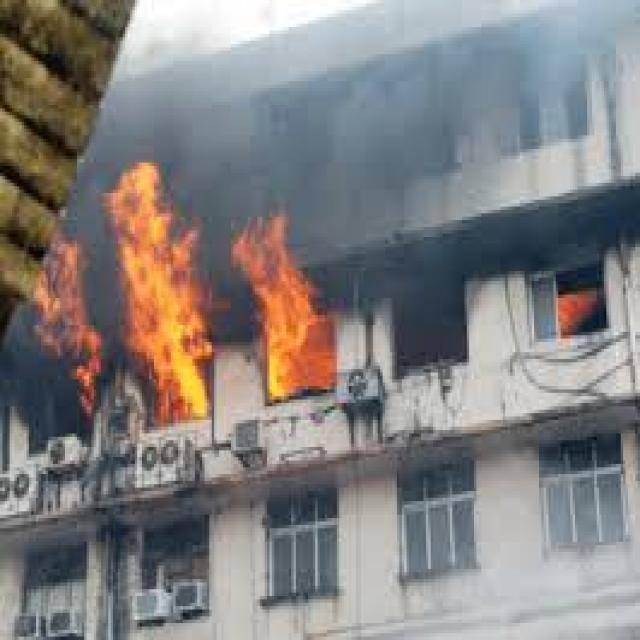fire: (99, 159, 214, 427), (226, 203, 342, 403), (24, 237, 101, 437), (546, 271, 609, 349)
